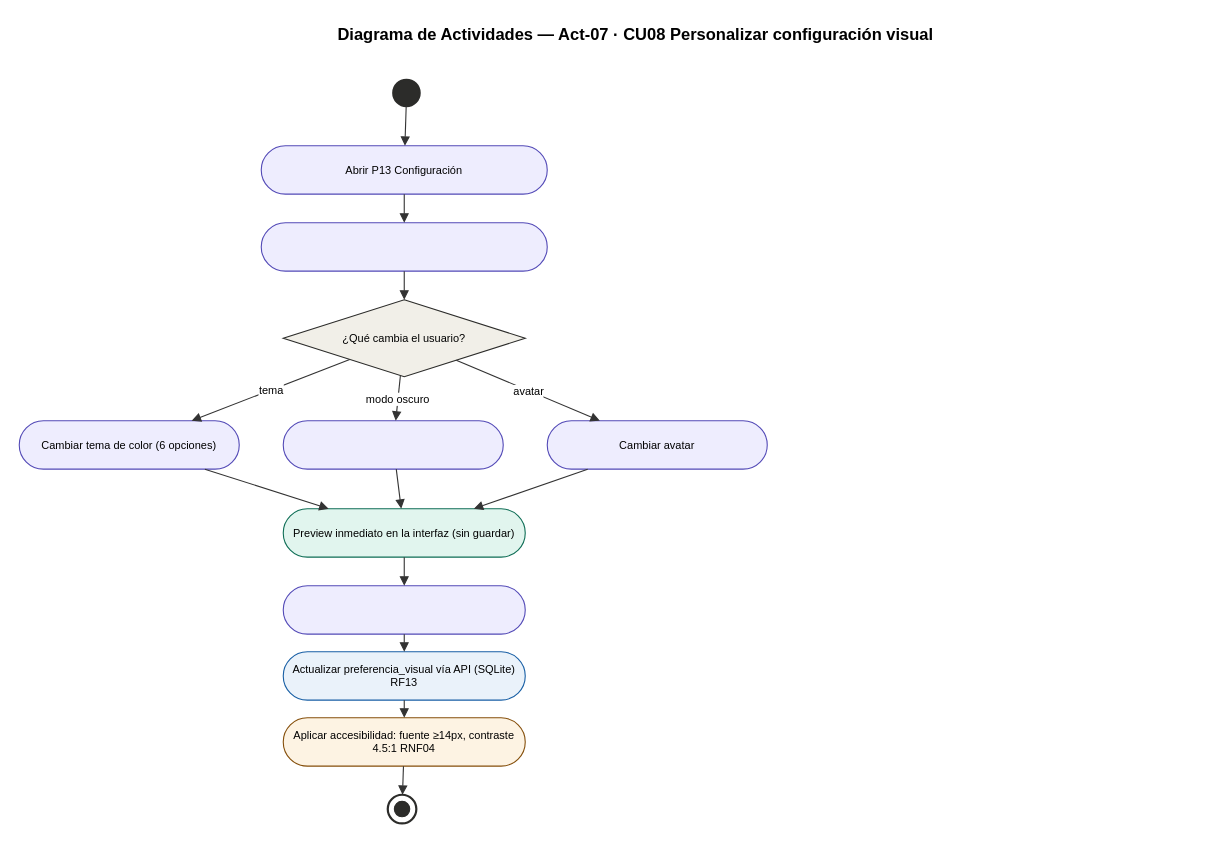
Image size: 1205x843. Some labels were removed from this diagram. Here are the shapes that lost their labels. From the top down, the centre of each, then its label:
(403,246): Cargar preferencia_visual actual de la cuenta (1:1)
(392,444): Alternar modo oscuro
(403,609): Confirmar 'Guardar cambios'
